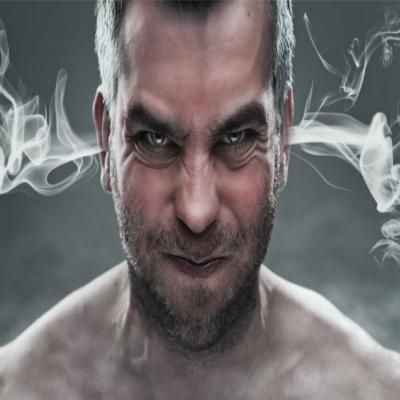angry: (118, 6, 277, 330)
